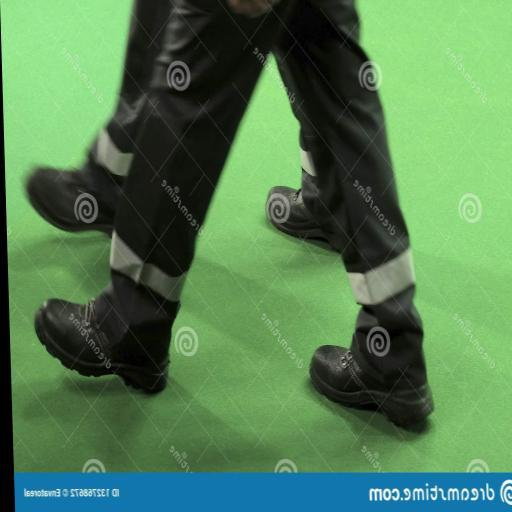safety_boots: (20, 278, 198, 398), (278, 324, 439, 454), (259, 174, 328, 266), (18, 153, 97, 228)
